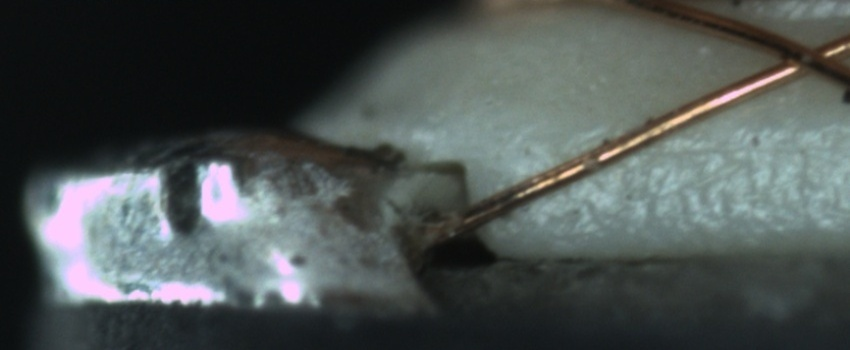CL: (757, 27, 847, 85)
DL: (612, 113, 849, 180)
